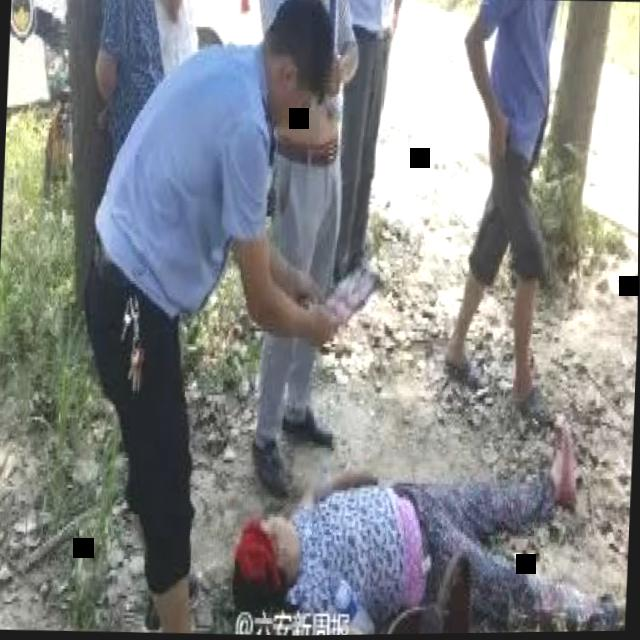Fall-Detected: (224, 380, 635, 637)
